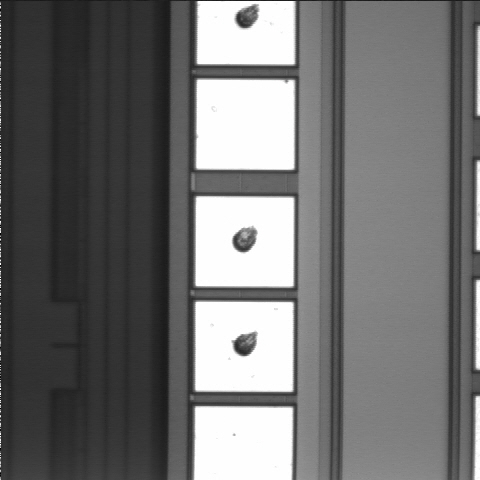pad: (196, 196, 294, 287), (196, 80, 295, 170), (195, 302, 293, 392)
